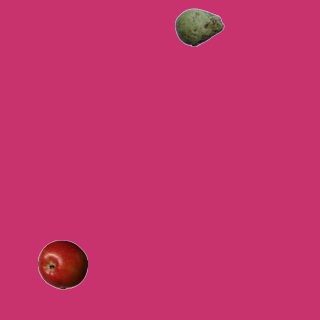Apple Braeburn: (37, 239, 87, 289)
Pear Stone: (174, 2, 224, 52)
